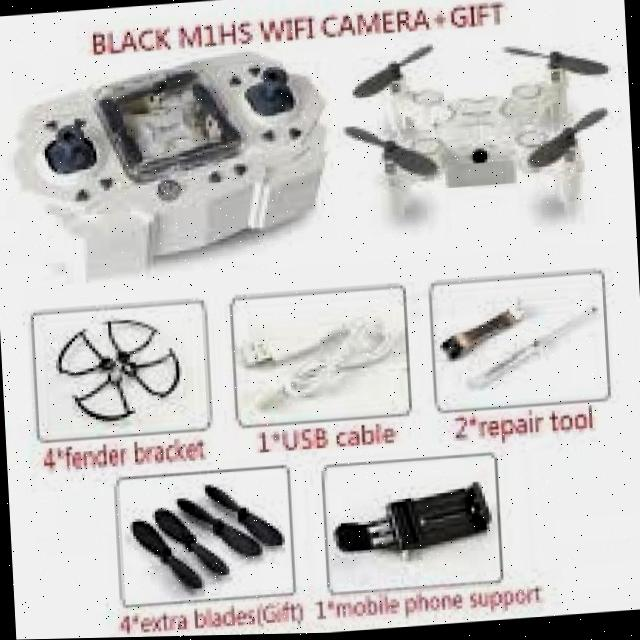drone: (344, 36, 616, 245)
